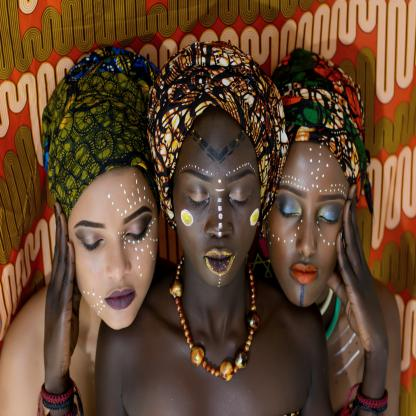Eye: (126, 219, 148, 240), (186, 186, 208, 206), (229, 187, 251, 206), (82, 233, 104, 252), (279, 201, 300, 219), (319, 207, 339, 224)
Mouth: (204, 250, 235, 276), (105, 288, 135, 310), (290, 262, 318, 284)
Nose: (204, 198, 232, 238), (106, 239, 130, 279), (296, 216, 316, 257)
